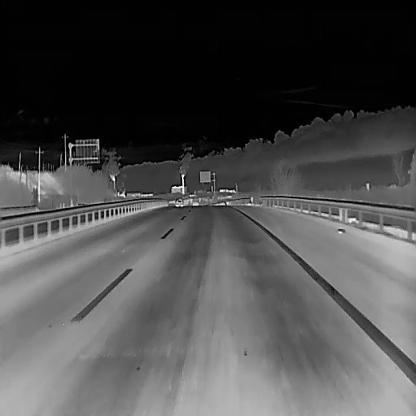car: (175, 196, 184, 207), (191, 198, 199, 207)
